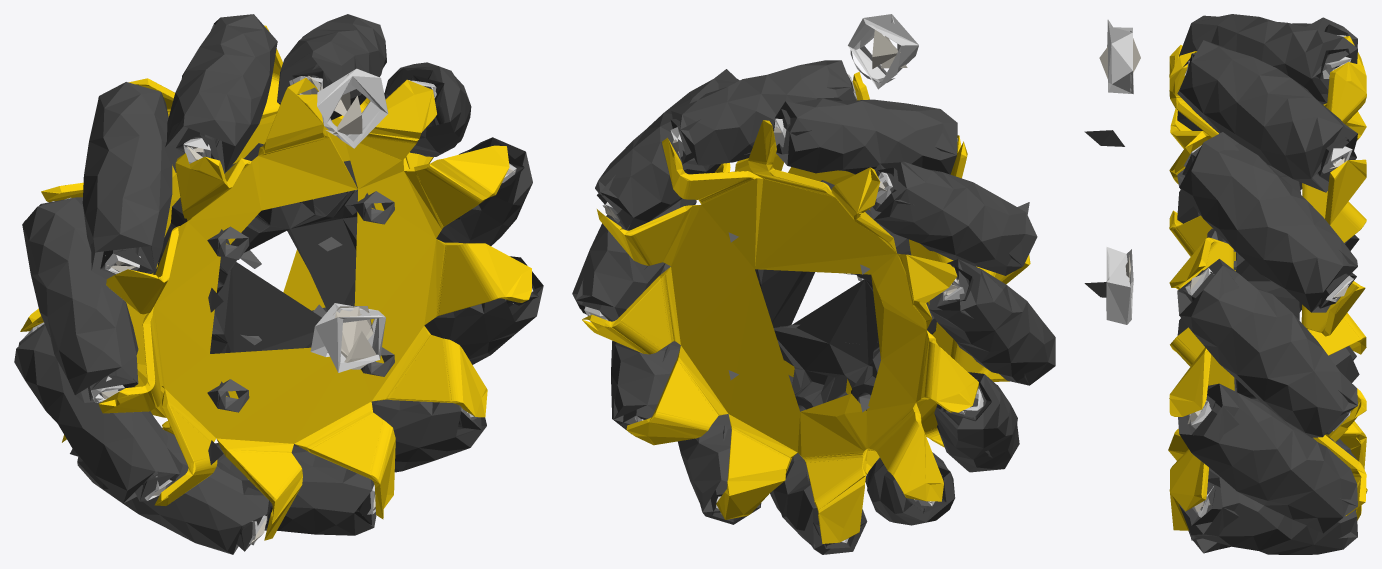
Rendered from wheelFL.glb.
3 views of the same model, side by side, from view 1: azimuth 30°, elevation 25°; view 2: azimuth 150°, elevation 25°; view 3: azimuth 270°, elevation 25° (orthographic). The views are drawn at different scales.
Visible parts, largest first — view 1: wheelFL_3, wheelFL_0, wheelFL_4, wheelFL_2, wheelFL_1, wheelFL_5; view 2: wheelFL_3, wheelFL_0, wheelFL_4, wheelFL_2, wheelFL_5; view 3: wheelFL_0, wheelFL_3, wheelFL_2, wheelFL_4, wheelFL_1, wheelFL_5.
Part boxes in pixels (box(x1,y1,x2,y2)): wheelFL_3: box(20, 25, 531, 540); wheelFL_0: box(14, 14, 543, 554); wheelFL_4: box(18, 63, 538, 551); wheelFL_2: box(21, 68, 532, 545); wheelFL_1: box(207, 189, 394, 464); wheelFL_5: box(37, 74, 514, 543); wheelFL_3: box(582, 71, 1030, 543); wheelFL_0: box(572, 60, 1055, 554); wheelFL_4: box(578, 75, 991, 548); wheelFL_2: box(584, 14, 983, 543); wheelFL_5: box(588, 30, 963, 514); wheelFL_0: box(1177, 14, 1359, 554); wheelFL_3: box(1168, 36, 1367, 530); wheelFL_2: box(1106, 19, 1353, 517); wheelFL_4: box(1182, 24, 1356, 540); wheelFL_1: box(1084, 130, 1236, 391); wheelFL_5: box(1099, 38, 1348, 515).
Bounding box in the file's own units: 4.08 × 4.23 × 2.14.
